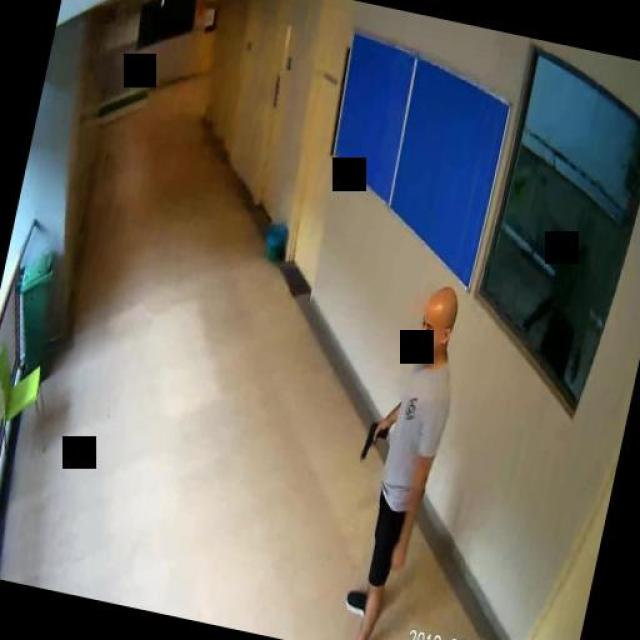gun: (358, 418, 387, 460)
